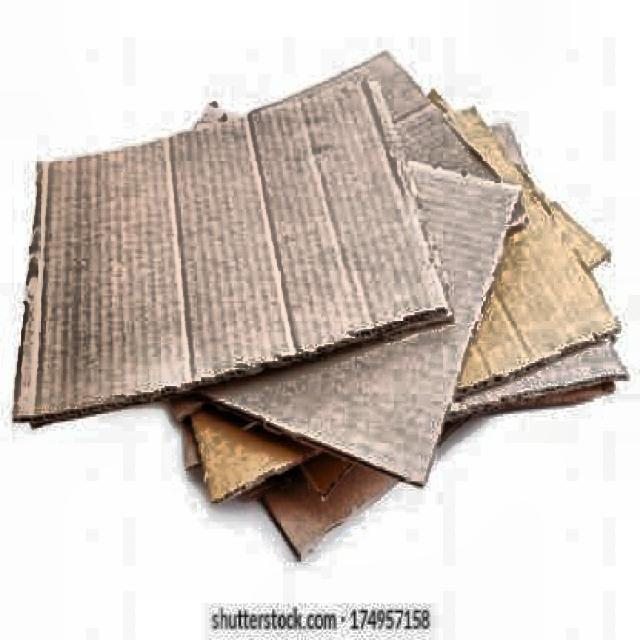Cardbox: (19, 43, 631, 548)
